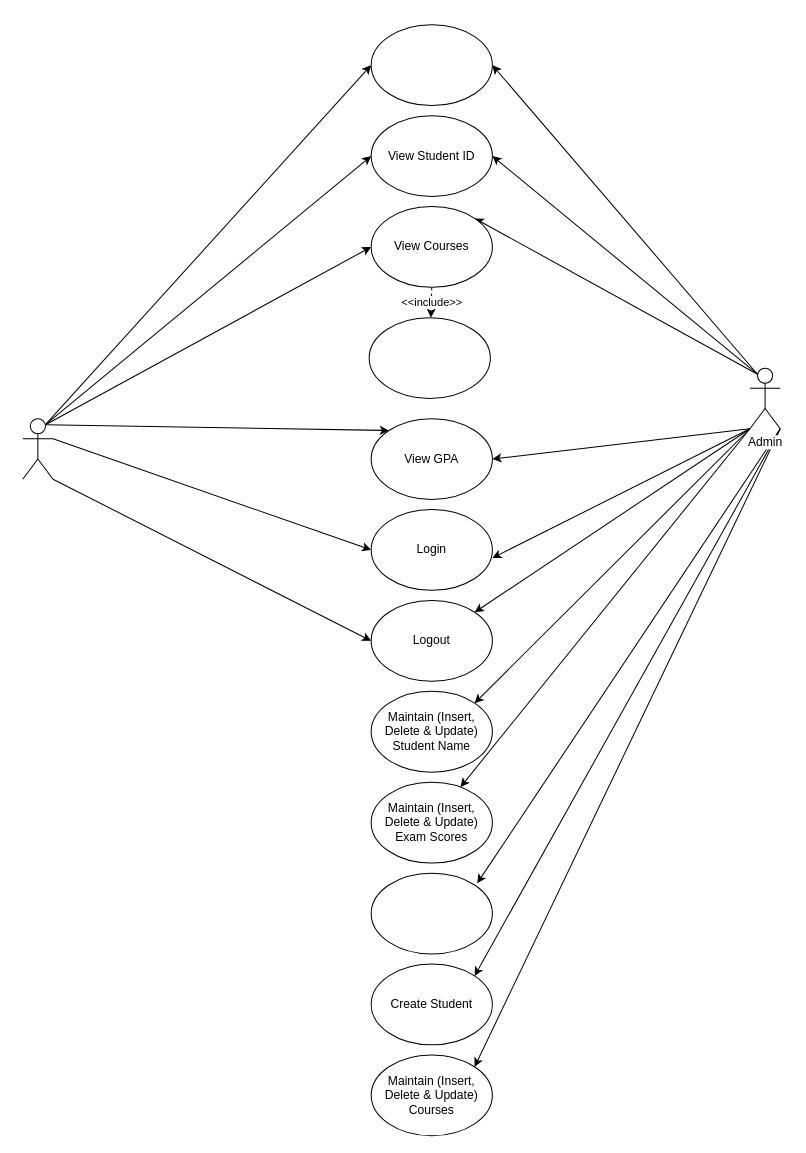
Image size: 806x1153. Some labels were removed from this diagram. The centre of each missing label's shape, as x and y in pixels:
"Search for Student" goes at (431,913).
"Student" goes at (37,448).
"View Exam Scores" goes at (429,357).
"View Student Name" goes at (431,65).
